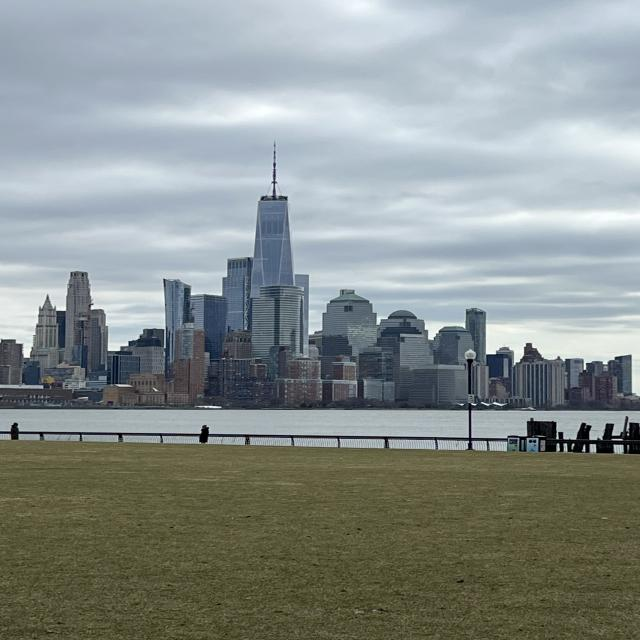WTC: (251, 142, 296, 286)
